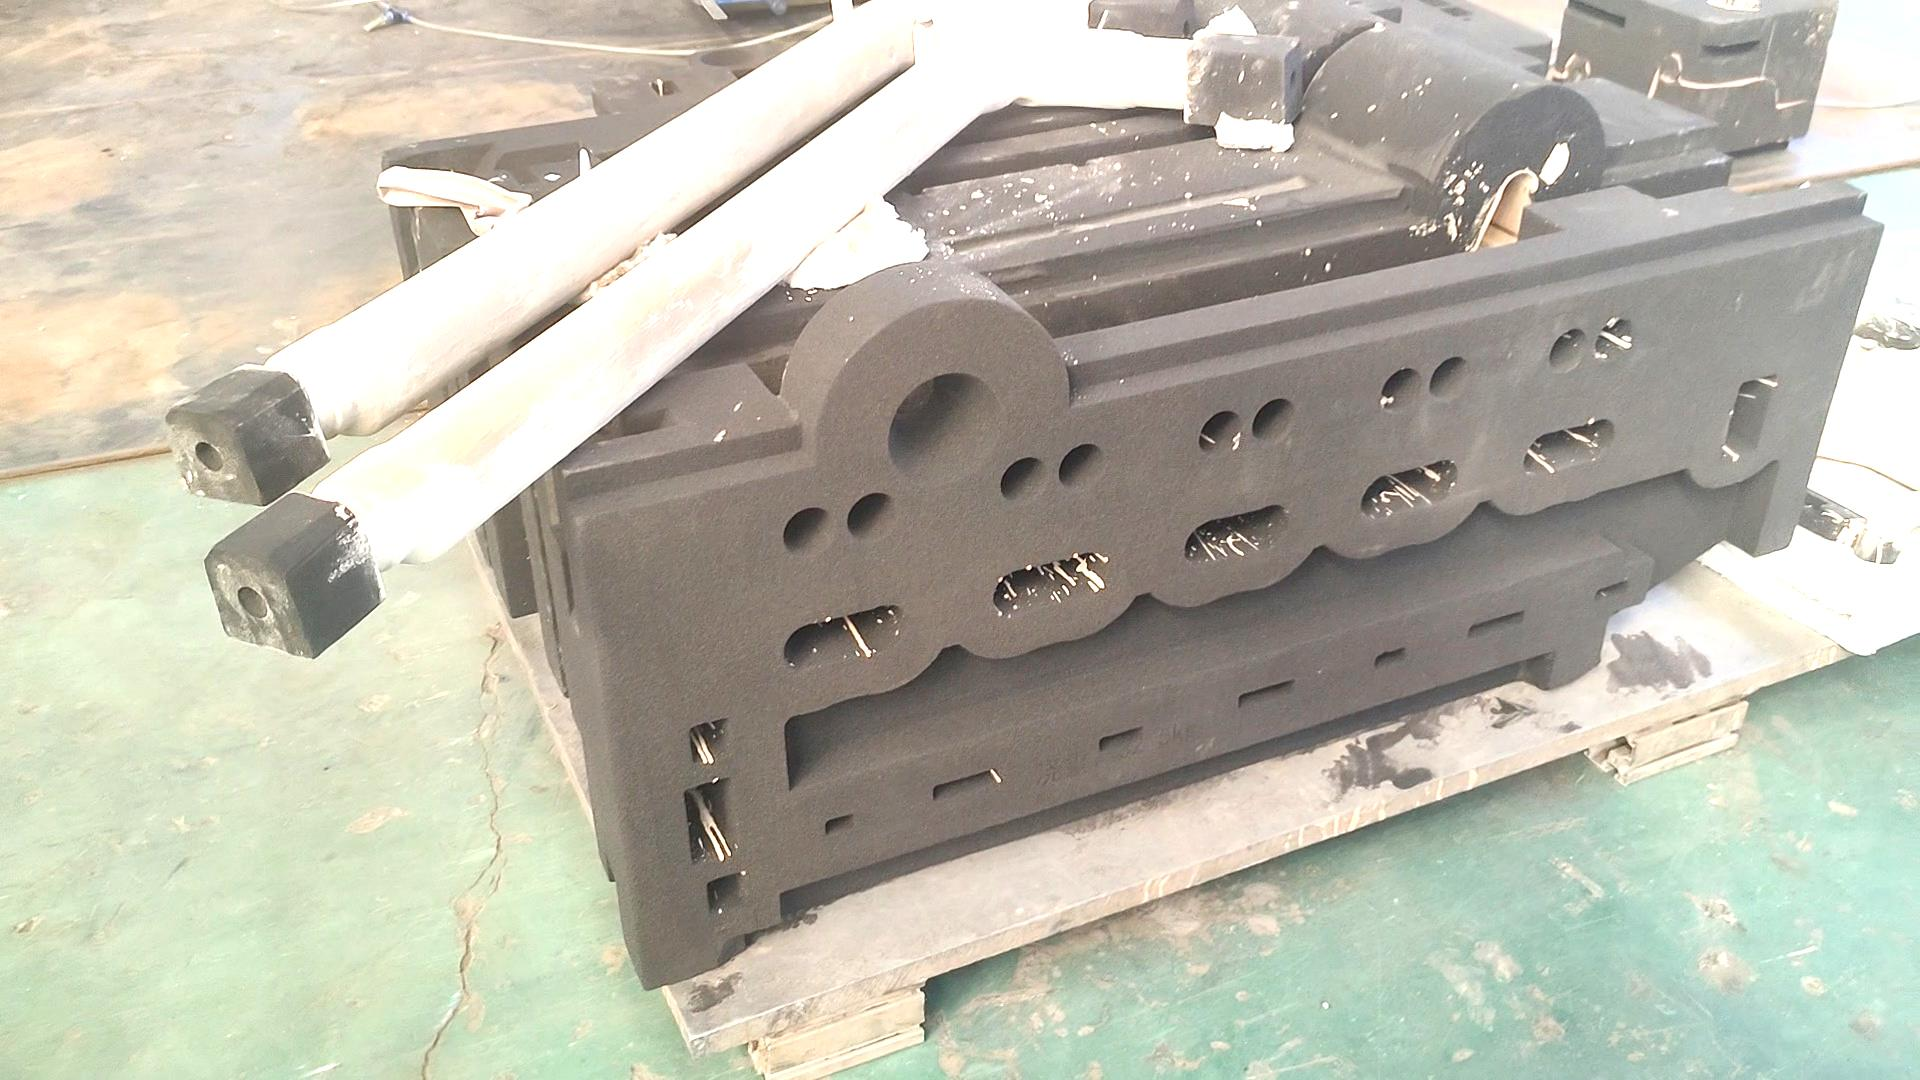pouring hole: (887, 371, 1005, 487), (696, 46, 760, 70)
